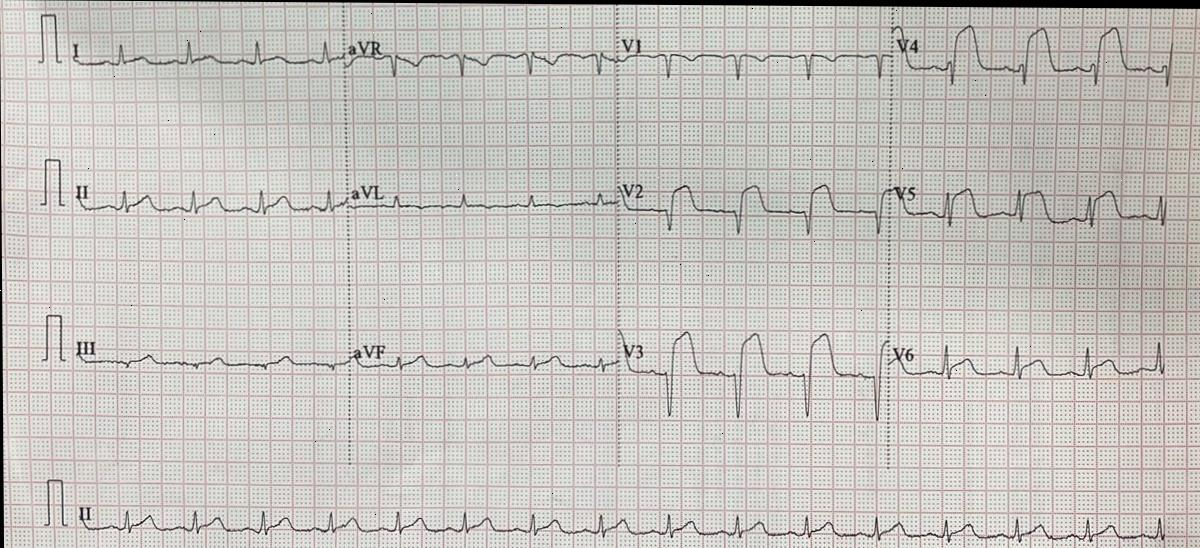Lead_I: (65, 23, 344, 98)
Lead_II: (70, 166, 349, 239)
Lead_III: (69, 323, 347, 395)
Lead_II_ext: (70, 480, 1173, 548)
Lead_V1: (615, 18, 891, 97)
Lead_V2: (612, 166, 895, 266)
Lead_V3: (617, 315, 891, 442)
Lead_V4: (893, 5, 1177, 104)
Lead_V5: (893, 162, 1174, 249)
Lead_V6: (888, 315, 1176, 398)
Lead_aVF: (344, 322, 620, 396)
Lead_aVL: (346, 166, 618, 227)
Lead_aVR: (346, 20, 616, 105)
